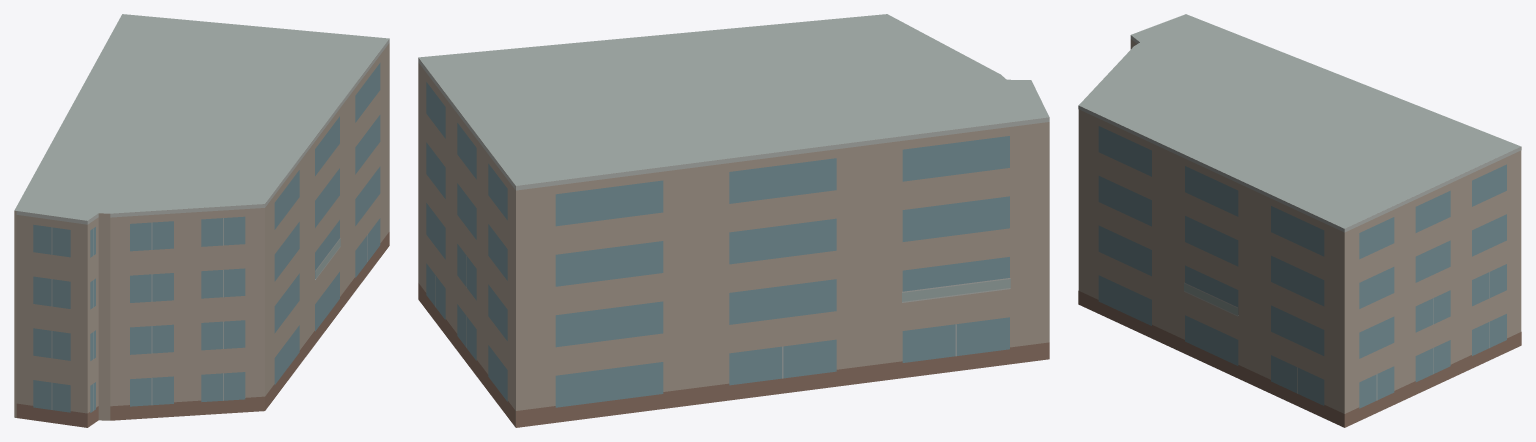
The model's file is survey-upis-32815133.glb.
3 renders of one model, left to right at view 1: azimuth 30°, elevation 25°; view 2: azimuth 150°, elevation 25°; view 3: azimuth 270°, elevation 25°, orthographic. The views are drawn at different scales.
Parts seen in each view (by area): view 1: survey-upis-32815133.tmp; view 2: survey-upis-32815133.tmp; view 3: survey-upis-32815133.tmp.
Part boxes in pixels (<box>): survey-upis-32815133.tmp: <box>14,14,389,427</box>; survey-upis-32815133.tmp: <box>418,14,1049,427</box>; survey-upis-32815133.tmp: <box>1078,14,1521,427</box>.
Size of the model in its own units: 30.1 by 13 by 26.22.
